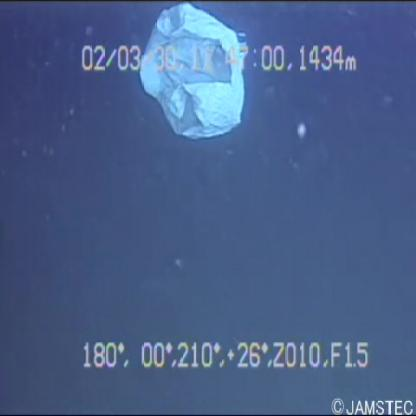Rác: (133, 1, 258, 136)
